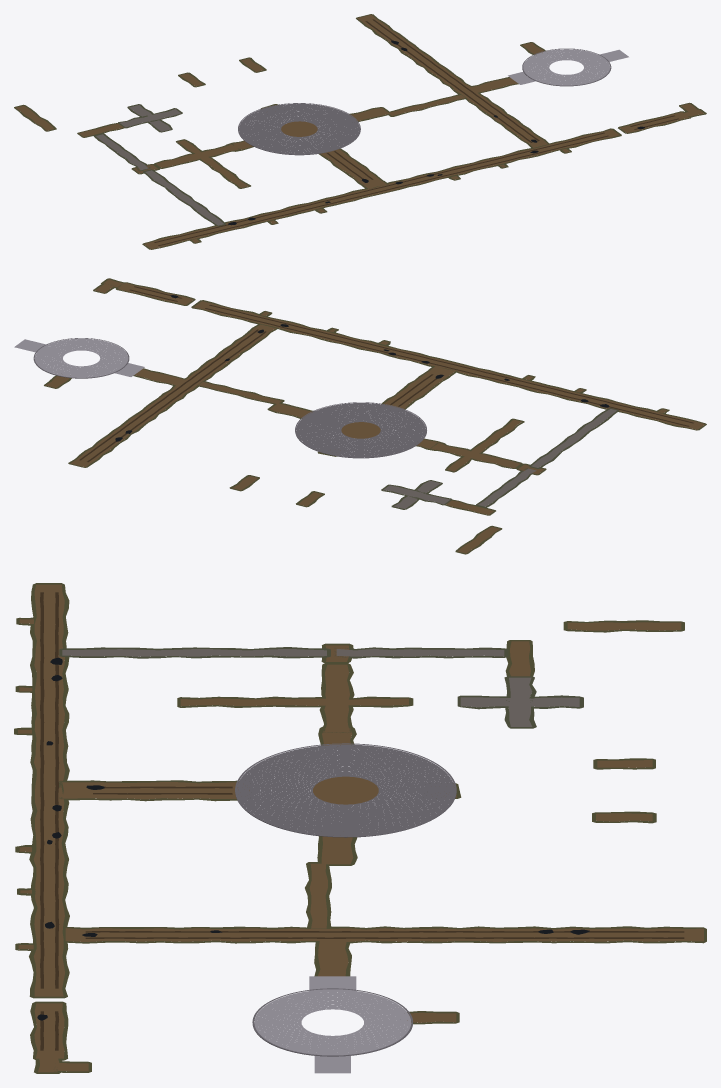
File: hg-ground.glb
The picture shows the model from 3 angles, top to bottom: view 1: azimuth 30°, elevation 25°; view 2: azimuth 150°, elevation 25°; view 3: azimuth 270°, elevation 25°; orthographic projection. The views are drawn at different scales.
Parts seen in each view (by area): view 1: hg-ground; view 2: hg-ground; view 3: hg-ground.
Part boxes in pixels (x1,y1,x2,y2): hg-ground: (14,14,706,249); hg-ground: (14,278,706,554); hg-ground: (14,583,706,1073).
Size of the model in its own units: 133 by 0.0569 by 79.52.
